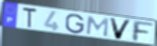4: (43, 10, 62, 33)
F: (131, 20, 155, 43)
G: (64, 13, 85, 35)
M: (85, 16, 110, 39)
T: (22, 6, 38, 29)
V: (108, 17, 134, 41)
